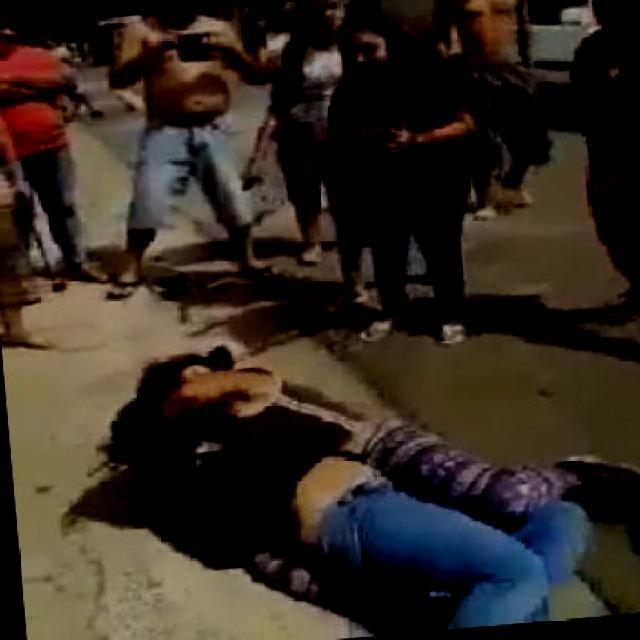fight: (84, 311, 624, 638)
non-fight: (322, 9, 502, 356)
